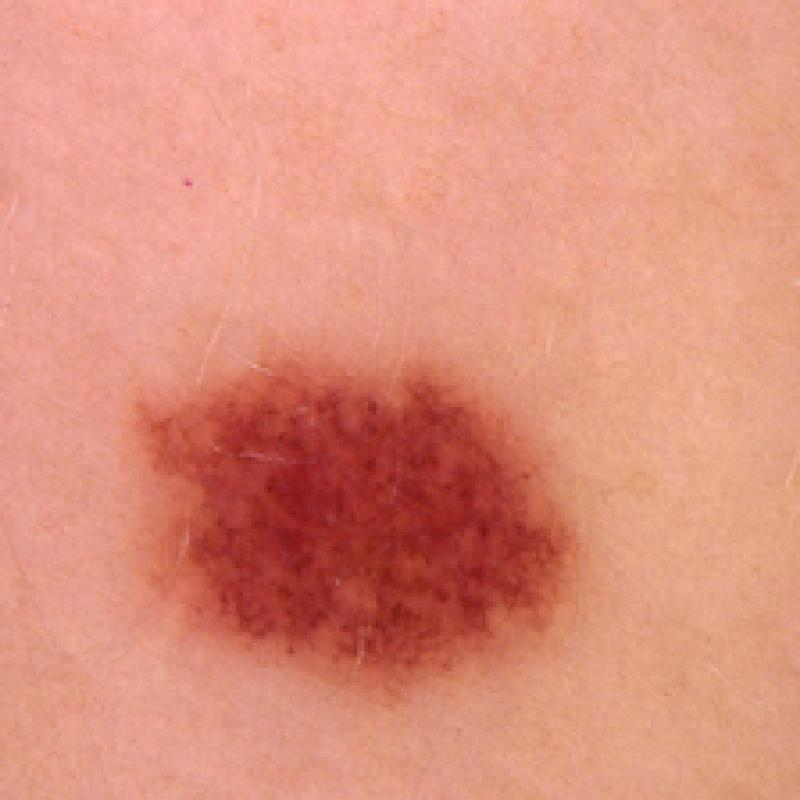benign: (100, 341, 622, 703)
